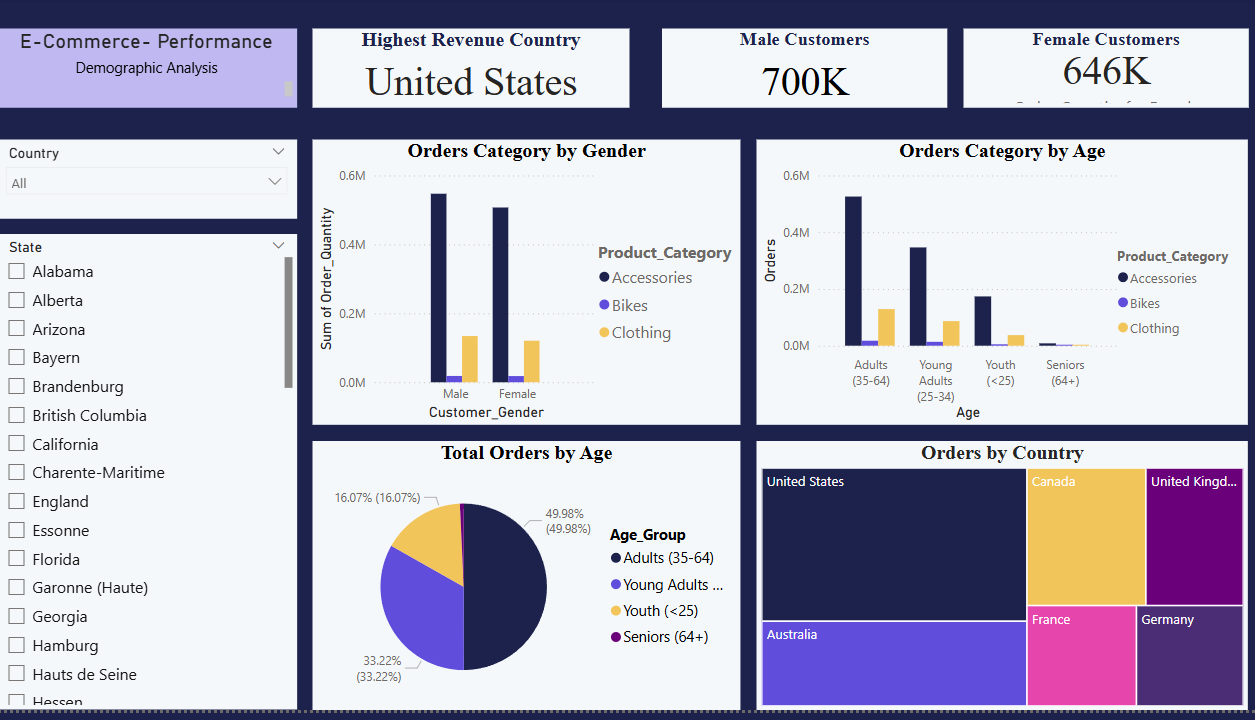

Layout of this report page (visuals, bound fields, positions):
{"tool":"powerbi","page":{"name":"Page 3","canvas":[1280,720],"ordinal":2},"visuals":[{"type":"clusteredColumnChart","title":"Orders Category by Age","fields":{"Category":["sales_data.Age_Group"],"Y":["Sum(sales_data.Order_Quantity)"],"Series":["sales_data.Product_Category"]},"box":[768,144,496,288],"z":0},{"type":"slicer","fields":{"Values":["sales_data.State"]},"box":[0,240,304,480],"z":1000},{"type":"slicer","fields":{"Values":["sales_data.Country"]},"box":[0,144,304,80],"z":2000},{"type":"card","title":"Highest Revenue Country","fields":{"Values":["sales_data.First Country max per Revenue"]},"box":[320,32,320,80],"z":3000},{"type":"clusteredColumnChart","title":"Orders Category by Gender","fields":{"Category":["sales_data.Customer_Gender"],"Series":["sales_data.Product_Category"],"Y":["Sum(sales_data.Order_Quantity)"]},"box":[320,144,432,288],"z":4000},{"type":"treemap","title":"Orders by Country","fields":{"Group":["sales_data.Country"],"Values":["Sum(sales_data.Order_Quantity)"]},"box":[768,448,496,272],"z":5000},{"type":"pieChart","title":"Total Orders by Age","fields":{"Category":["sales_data.Age_Group"],"Y":["Sum(sales_data.Order_Quantity)"]},"box":[320,448,432,272],"z":6000},{"type":"card","title":"Female Customers","fields":{"Values":["sales_data.Order_Quantity for Female"]},"box":[976,32,288,80],"z":7000},{"type":"card","title":"Male Customers","fields":{"Values":["sales_data.Order_Quantity for Male"]},"box":[672,32,288,80],"z":8000},{"type":"textbox","title":"E-Commerce- Performance","box":[0,32,304,80],"z":9000}]}

Visuals, with their boxes in screenshot pixels (x1, y1, x2, y2), scaled from the page's 1280x720 canvas onto the 1255x720 screenshot:
"Orders Category by Age" clusteredColumnChart: [left=753, top=144, right=1239, bottom=432]
slicer - sales_data.State: [left=0, top=240, right=298, bottom=719]
slicer - sales_data.Country: [left=0, top=144, right=298, bottom=224]
"Highest Revenue Country" card: [left=314, top=32, right=628, bottom=112]
"Orders Category by Gender" clusteredColumnChart: [left=314, top=144, right=737, bottom=432]
"Orders by Country" treemap: [left=753, top=448, right=1239, bottom=719]
"Total Orders by Age" pieChart: [left=314, top=448, right=737, bottom=719]
"Female Customers" card: [left=957, top=32, right=1239, bottom=112]
"Male Customers" card: [left=659, top=32, right=941, bottom=112]
"E-Commerce- Performance" textbox: [left=0, top=32, right=298, bottom=112]
